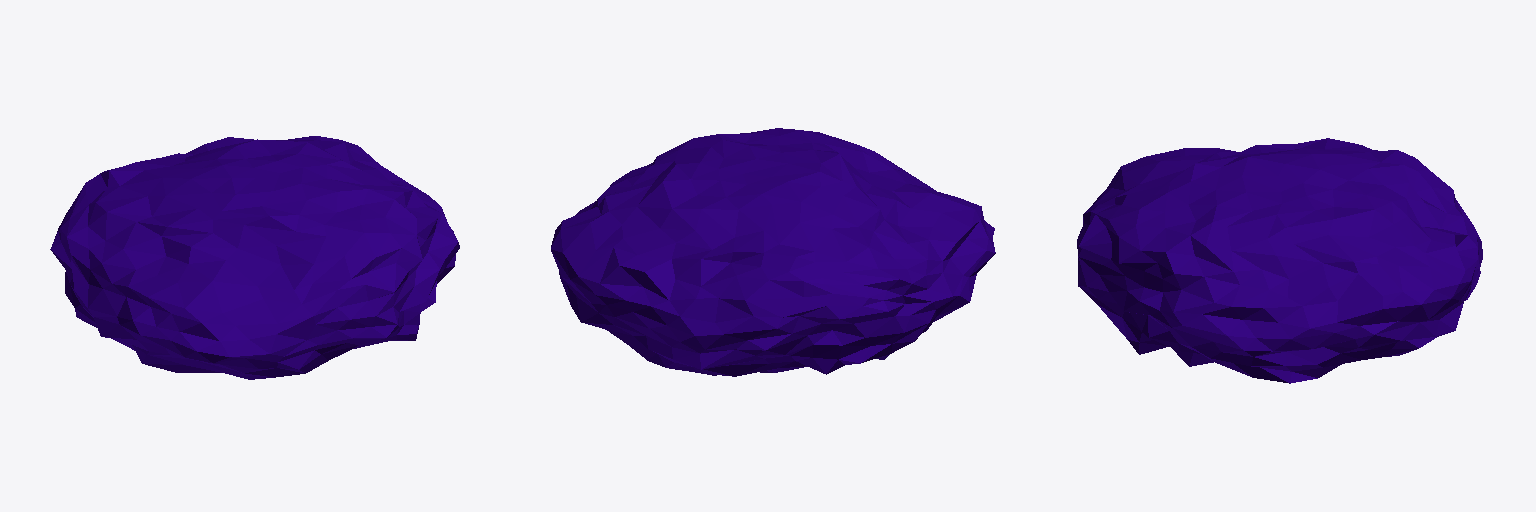
The model's file is land.obj.
3 views of the same model, side by side, from view 1: azimuth 30°, elevation 25°; view 2: azimuth 150°, elevation 25°; view 3: azimuth 270°, elevation 25° (orthographic).
Parts seen in each view (by area): view 1: land; view 2: land; view 3: land.
Part boxes in pixels (x1,y1,x2,y2): land: (50,136,459,379); land: (551,128,995,376); land: (1077,138,1482,383).
Bounding box in the file's own units: 87.12 × 38.03 × 85.83.